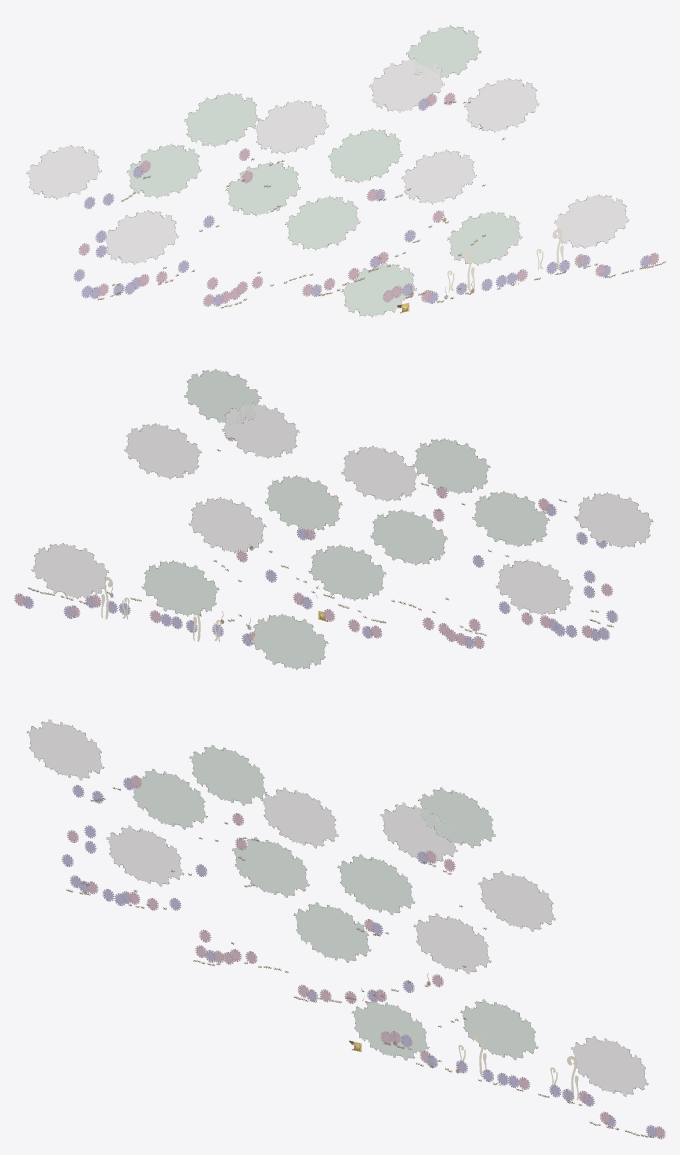
File: kinoko01_bg.glb
The picture shows the model from 3 angles, top to bottom: view 1: azimuth 30°, elevation 25°; view 2: azimuth 150°, elevation 25°; view 3: azimuth 330°, elevation 25°; orthographic projection. The views are drawn at different scales.
Parts seen in each view (by area): view 1: kinoko01_bg; view 2: kinoko01_bg; view 3: kinoko01_bg.
Boxes of the visible parts, x1,y1,x2,y2 form: kinoko01_bg: [26, 25, 665, 317]; kinoko01_bg: [14, 369, 653, 669]; kinoko01_bg: [26, 719, 665, 1139].
Bounding box in the file's own units: 3029 × 1289 × 239.
9 materials, 8 textured.
